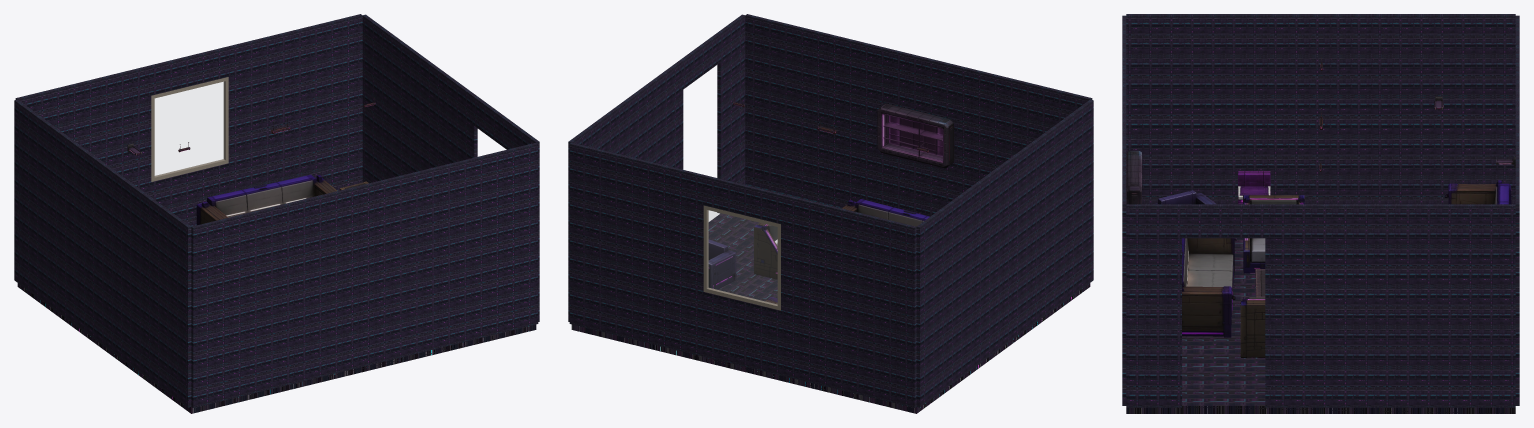
The model's file is cyberpunk-lounge.glb.
The picture shows the model from 3 angles, left to right: view 1: azimuth 30°, elevation 25°; view 2: azimuth 150°, elevation 25°; view 3: azimuth 270°, elevation 25°; orthographic projection. The views are drawn at different scales.
Parts seen in each view (by area): view 1: geometry_0.004, geometry_0.002, geometry_0.003, geometry_0.001, glass, geometry_0.007, geometry_0, frame; view 2: geometry_0.002, geometry_0.004, geometry_0.003, geometry_0.001, geometry_0, glass, geometry_0.013, frame, geometry_0.006, geometry_0.009, geometry_0.005; view 3: geometry_0.003, geometry_0.001, geometry_0, geometry_0.005, geometry_0.002, geometry_0.004, geometry_0.006, geometry_0.011, geometry_0.008, geometry_0.029, geometry_0.013, geometry_0.017.
Part boxes in pixels (bbox=[...]): geometry_0.004: bbox=[191, 142, 538, 407]; geometry_0.002: bbox=[15, 14, 362, 226]; geometry_0.003: bbox=[14, 99, 191, 407]; geometry_0.001: bbox=[362, 14, 539, 321]; glass: bbox=[155, 82, 223, 175]; geometry_0.007: bbox=[196, 174, 337, 225]; geometry_0: bbox=[17, 283, 536, 413]; frame: bbox=[151, 77, 228, 181]; geometry_0.002: bbox=[569, 142, 916, 407]; geometry_0.004: bbox=[745, 14, 1092, 216]; geometry_0.003: bbox=[916, 99, 1093, 407]; geometry_0.001: bbox=[568, 14, 745, 321]; geometry_0: bbox=[571, 213, 1090, 413]; glass: bbox=[708, 210, 777, 304]; geometry_0.013: bbox=[877, 103, 954, 168]; frame: bbox=[703, 205, 780, 310]; geometry_0.006: bbox=[754, 223, 777, 279]; geometry_0.009: bbox=[708, 239, 736, 289]; geometry_0.005: bbox=[842, 199, 929, 226]; geometry_0.003: bbox=[1126, 14, 1515, 204]; geometry_0.001: bbox=[1126, 204, 1515, 407]; geometry_0: bbox=[1126, 238, 1515, 413]; geometry_0.005: bbox=[1182, 238, 1236, 337]; geometry_0.002: bbox=[1515, 15, 1519, 405]; geometry_0.004: bbox=[1122, 15, 1126, 405]; geometry_0.006: bbox=[1240, 297, 1265, 357]; geometry_0.011: bbox=[1243, 195, 1304, 273]; geometry_0.008: bbox=[1444, 180, 1511, 204]; geometry_0.029: bbox=[1238, 171, 1270, 204]; geometry_0.013: bbox=[1126, 151, 1142, 204]; geometry_0.017: bbox=[1153, 190, 1216, 204].
Bounding box in the file's own units: 5.62 × 2.86 × 4.91.
Materials: 13 (11 with a texture image).
